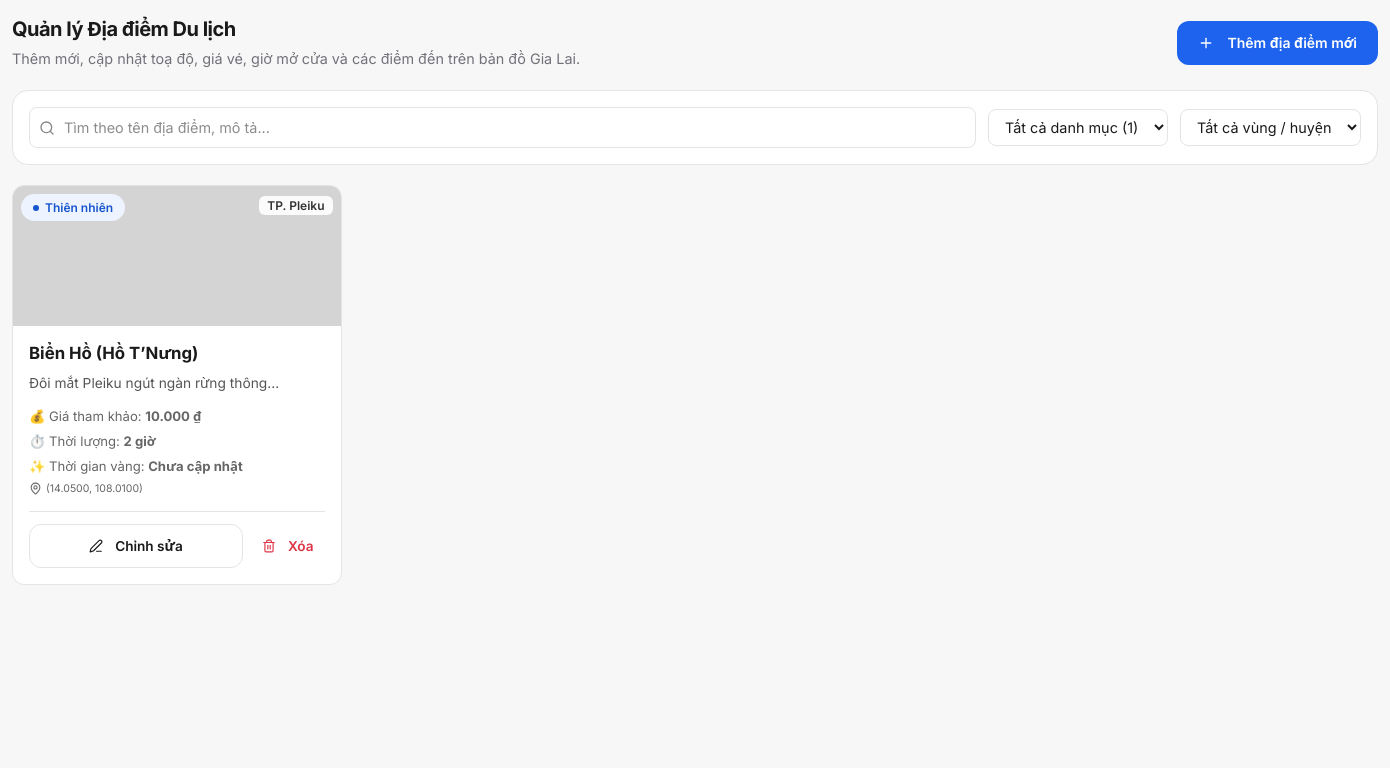
Admin Places CRUD (AdminPlacesManager) › xóa địa điểm với xác nhận thành công
Click the button "Xóa".
click(288, 546)  # box [251, 524, 324, 568]
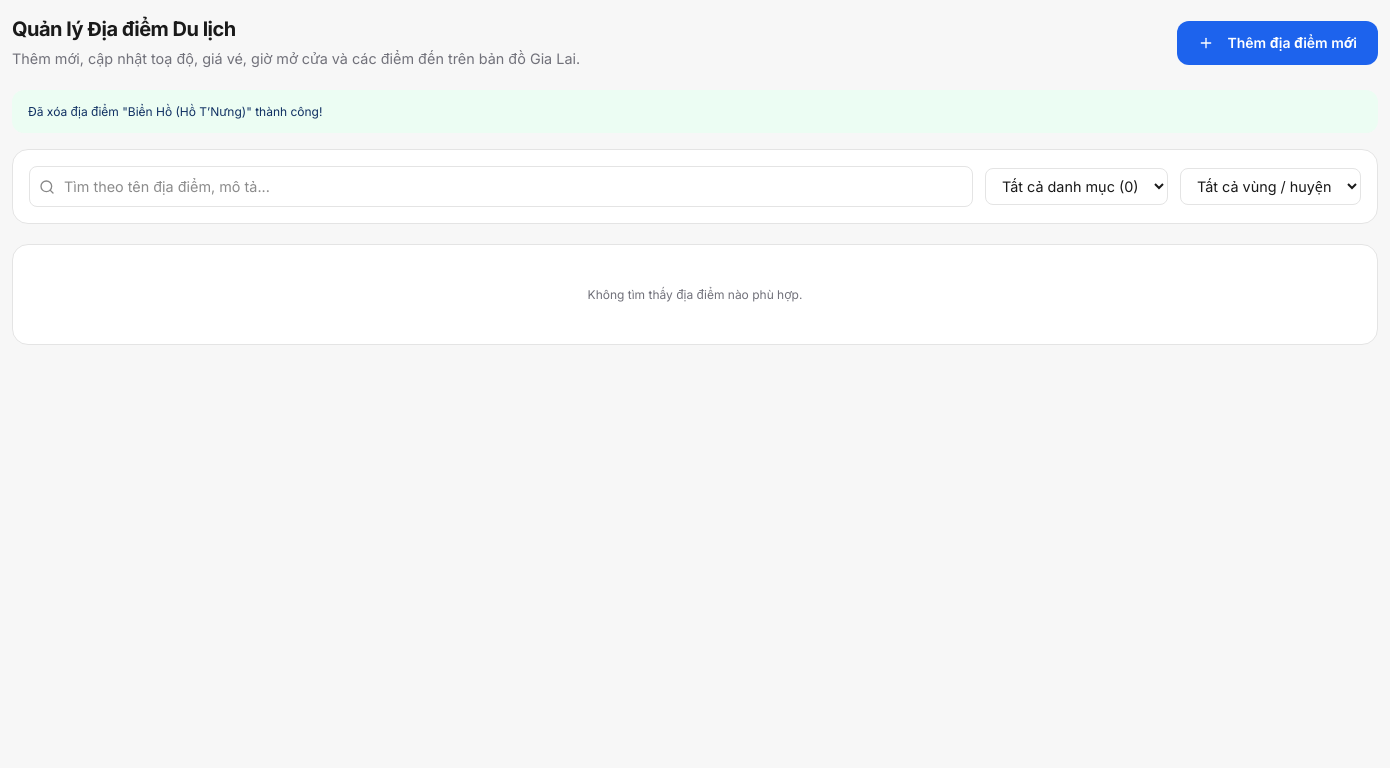
Result: the text "Đã xóa địa điểm \"Biển Hồ (Hồ T’Nưng)\" thành công!" is shown at [12, 90, 1378, 133]
